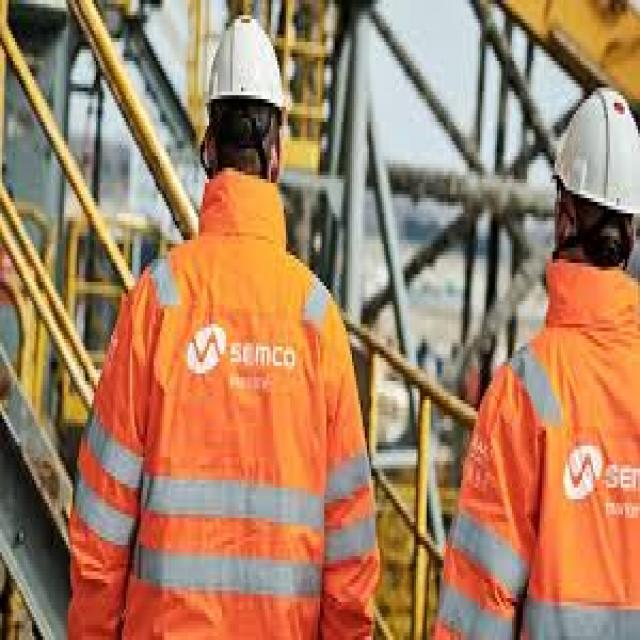Reflective-Jacket: (68, 228, 384, 628), (450, 270, 640, 640)
Safety-Helmet: (546, 80, 640, 225), (198, 11, 299, 130)
